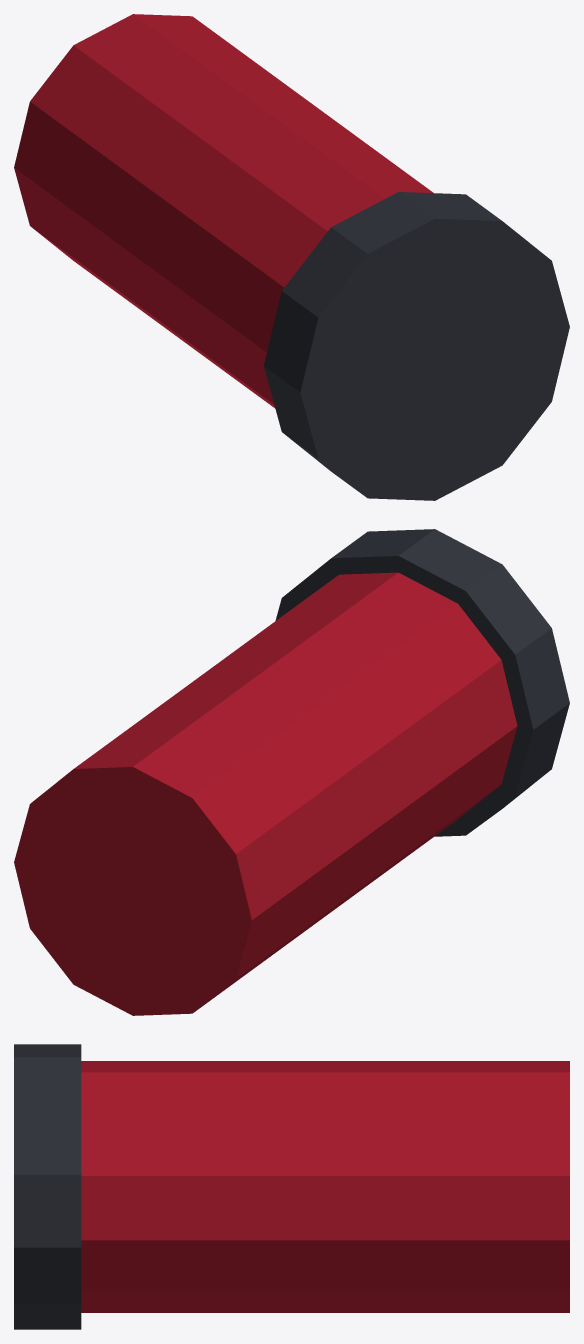
The model's file is power_cell.glb.
3 views of the same model, one above another, from view 1: azimuth 30°, elevation 25°; view 2: azimuth 150°, elevation 25°; view 3: azimuth 270°, elevation 25° (orthographic). The views are drawn at different scales.
Visible parts, largest first — view 1: part_0, part_1; view 2: part_0, part_1; view 3: part_0, part_1.
Part boxes in pixels (x1,y1,x2,y2): part_0: [14, 14, 433, 408]; part_1: [263, 192, 569, 500]; part_0: [14, 572, 517, 1015]; part_1: [275, 529, 569, 836]; part_0: [81, 1061, 569, 1312]; part_1: [14, 1044, 81, 1329].
Bounding box in the file's own units: 0.34 × 0.34 × 0.66.
